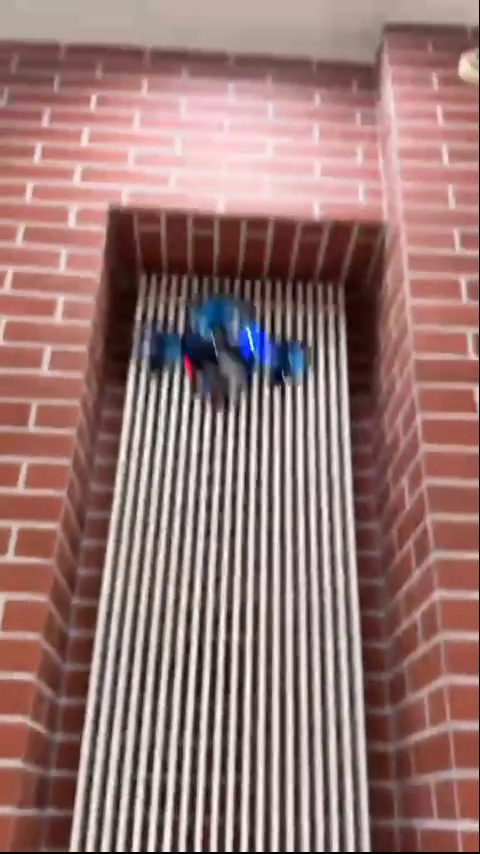drone: (139, 298, 313, 403)
